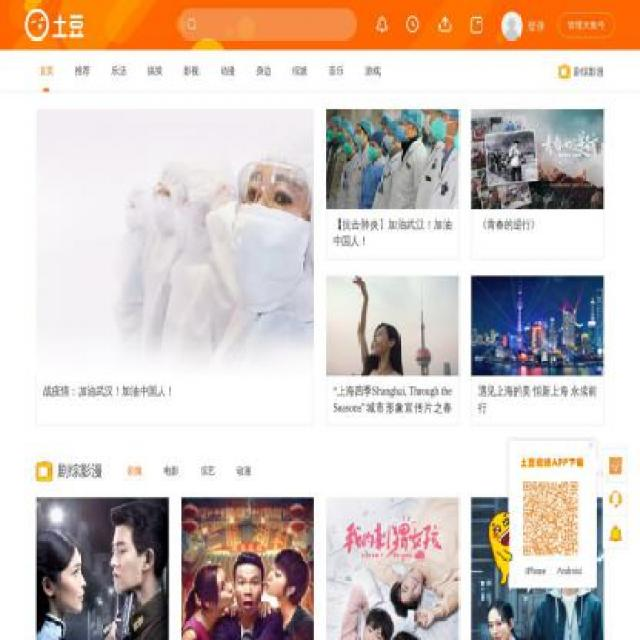button: (36, 498, 170, 639), (326, 498, 460, 639), (470, 498, 604, 639), (181, 498, 314, 639), (36, 50, 56, 92), (72, 50, 92, 92), (108, 50, 128, 92), (146, 50, 166, 92), (182, 50, 202, 92), (218, 50, 238, 92), (254, 50, 274, 92), (290, 50, 310, 92), (326, 50, 346, 92), (362, 50, 382, 92), (559, 63, 604, 79), (519, 564, 553, 578), (552, 564, 586, 578), (236, 460, 252, 482), (128, 460, 143, 482), (164, 460, 179, 482), (200, 460, 215, 482), (582, 467, 604, 481)
field: (178, 8, 357, 40)
